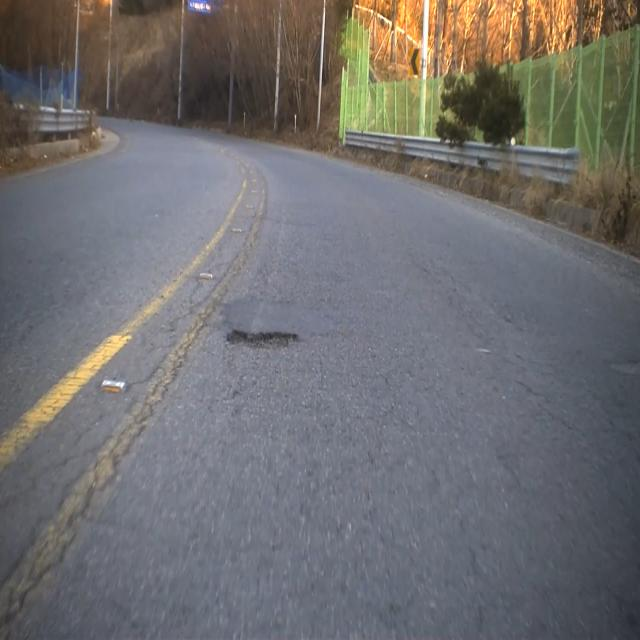Pothole: (221, 313, 306, 367)
